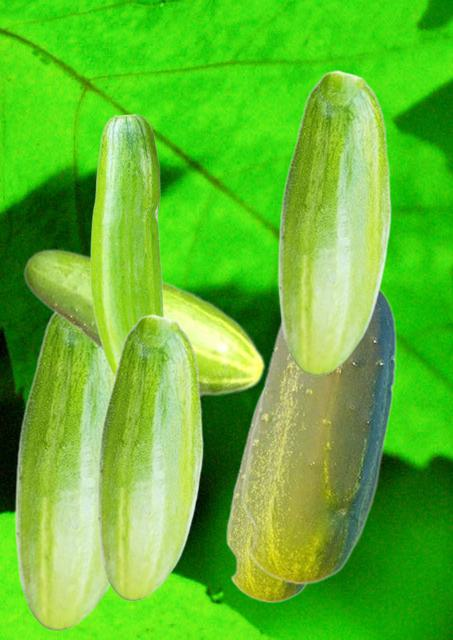cucumber: (240, 289, 395, 584), (23, 248, 265, 397), (277, 70, 390, 375), (14, 312, 113, 630), (96, 314, 202, 600), (90, 113, 164, 375), (225, 392, 306, 602)
